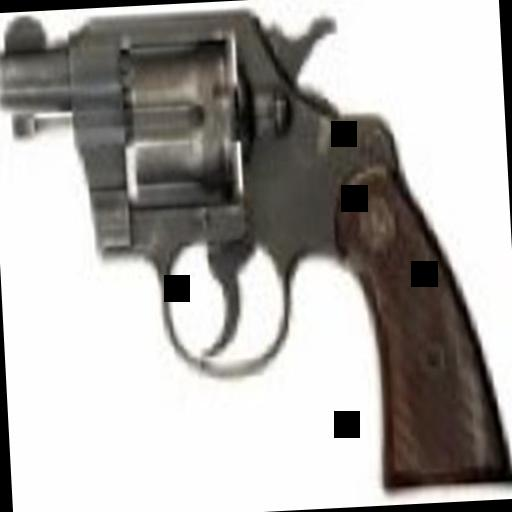Handgun: (5, 0, 512, 510)
